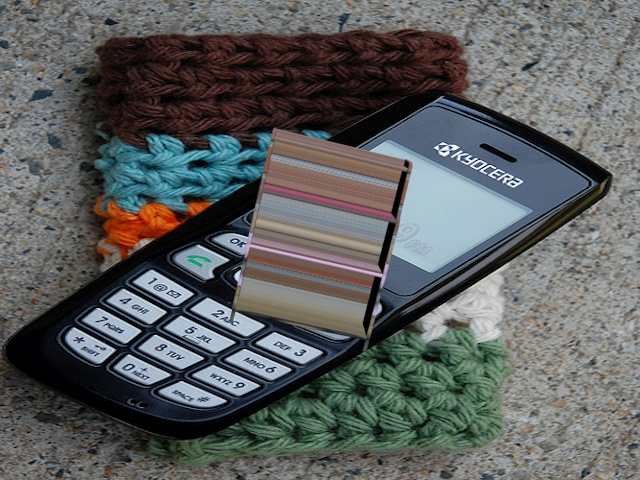bookcase: (224, 121, 417, 352)
